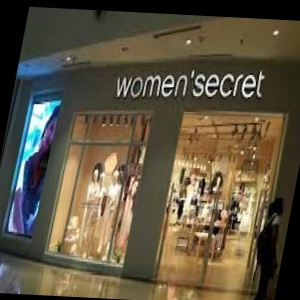women_secret: (215, 44, 300, 102)
